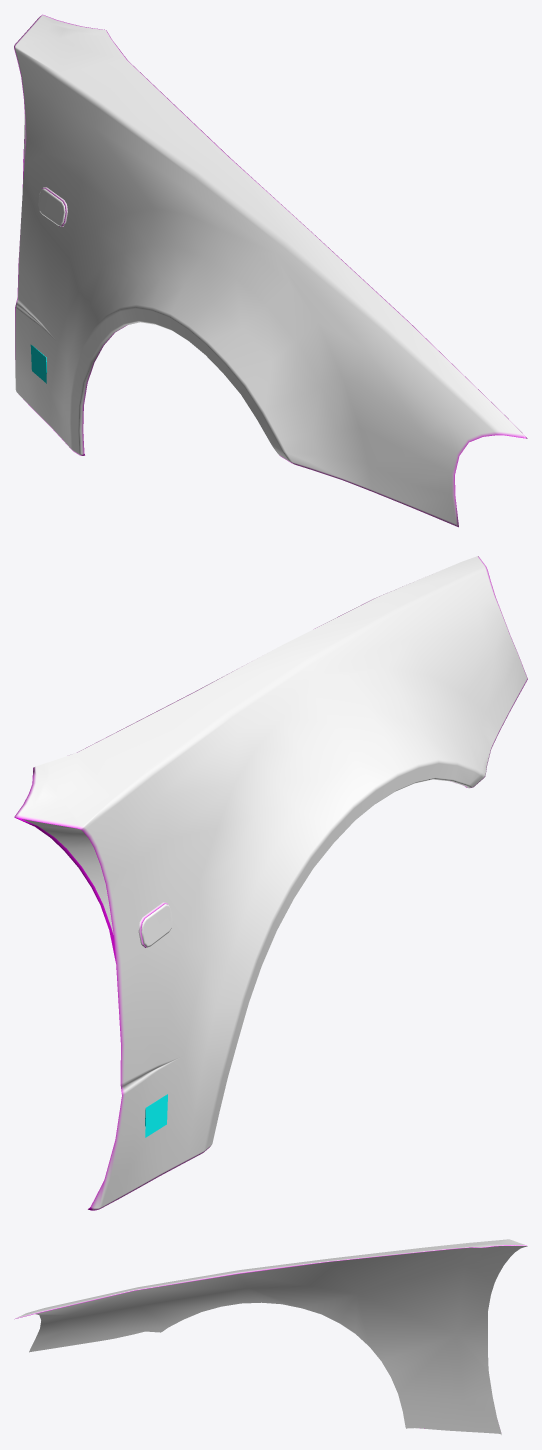
Rendered from Car_Nissan_SkylineGTRVspecR34_1999_FenderFR_SetA.fbx.
The picture shows the model from 3 angles, top to bottom: view 1: azimuth 30°, elevation 25°; view 2: azimuth 150°, elevation 25°; view 3: azimuth 270°, elevation 25°; orthographic projection. The views are drawn at different scales.
Visible parts, largest first — view 1: FenderFR 6; view 2: FenderFR 6; view 3: FenderFR 6.
Boxes of the visible parts, box(x1,y1,x2,y2) form: FenderFR 6: box(14, 14, 527, 527); FenderFR 6: box(14, 556, 527, 1210); FenderFR 6: box(14, 1239, 527, 1434).
Size of the model in its own units: 0.2093 by 0.5704 by 1.29.
